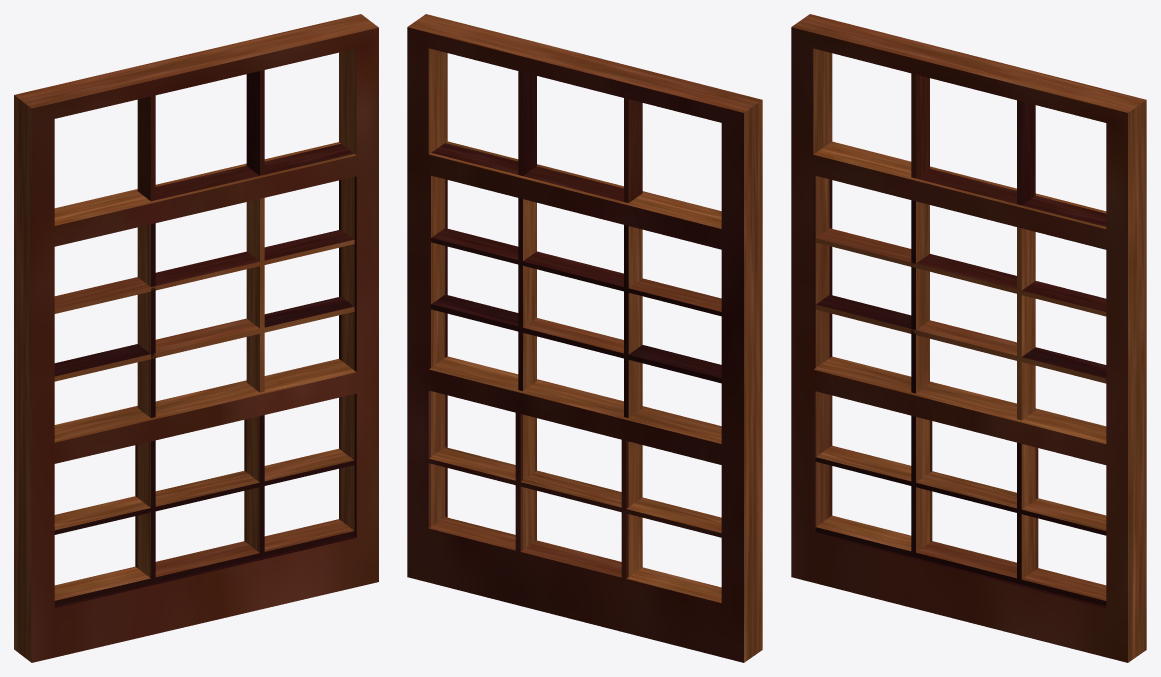
The model's file is window.fbx.
3 views of the same model, side by side, from view 1: azimuth 30°, elevation 25°; view 2: azimuth 150°, elevation 25°; view 3: azimuth 330°, elevation 25° (orthographic).
Parts seen in each view (by area): view 1: window; view 2: window; view 3: window.
Boxes of the visible parts, x1,y1,x2,y2 form: window: (14,14,378,662); window: (407,14,762,662); window: (791,14,1146,662).
Bounding box in the file's own units: 40.21 × 61.95 × 4.48.
